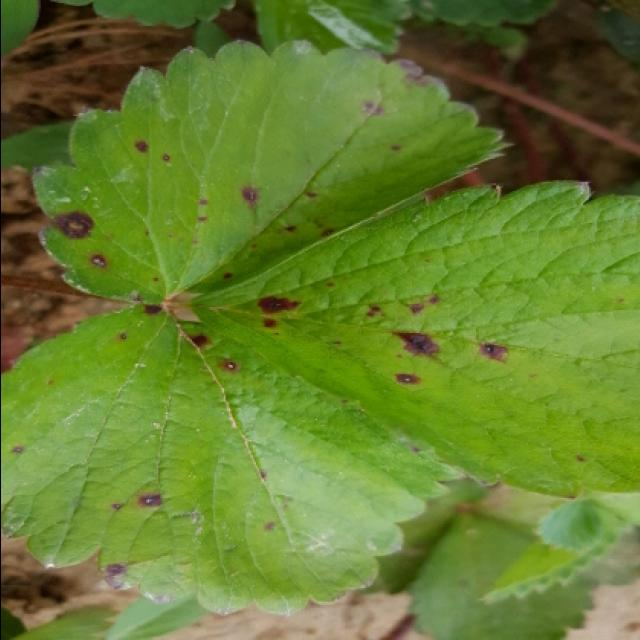Leaf Spot: (2, 302, 468, 619), (186, 179, 640, 502), (28, 38, 516, 309), (402, 508, 601, 640)
